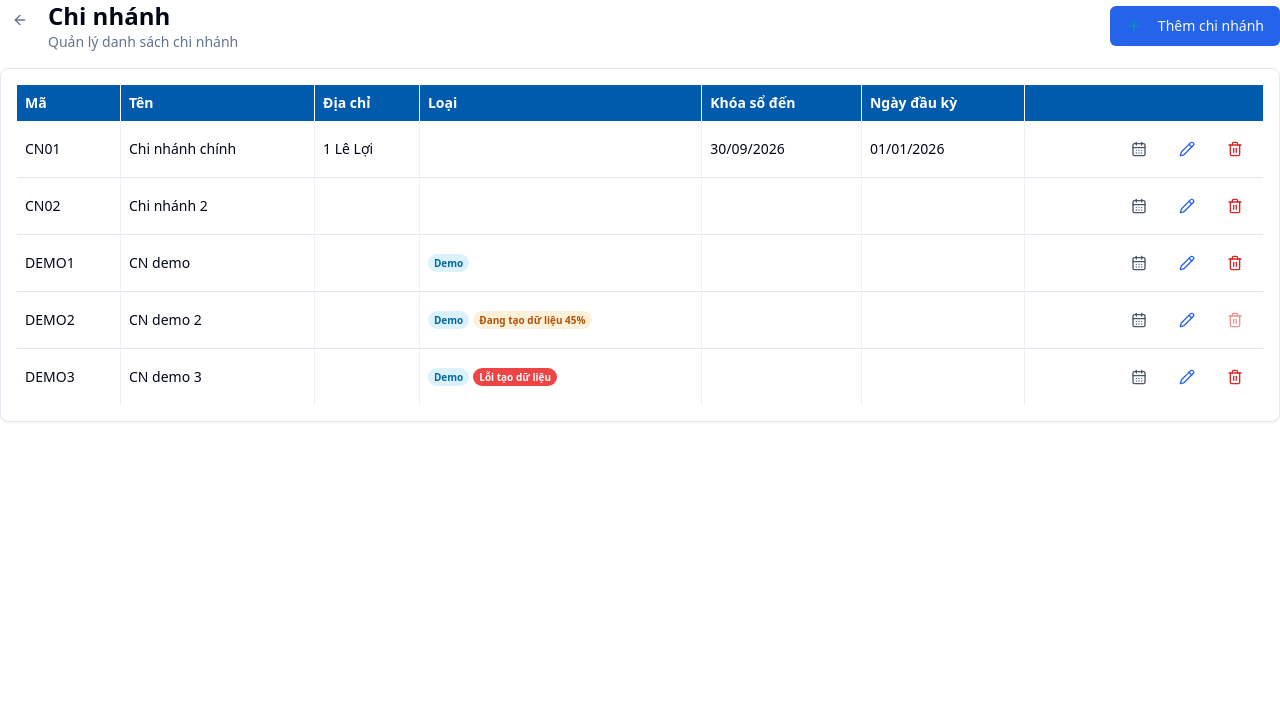
Test: BranchesPage › normal rows keep the normal delete
Click the button named "Xóa chi nhánh" in the row of "CN01".
click(1235, 149)  # box [1215,129,1255,169]
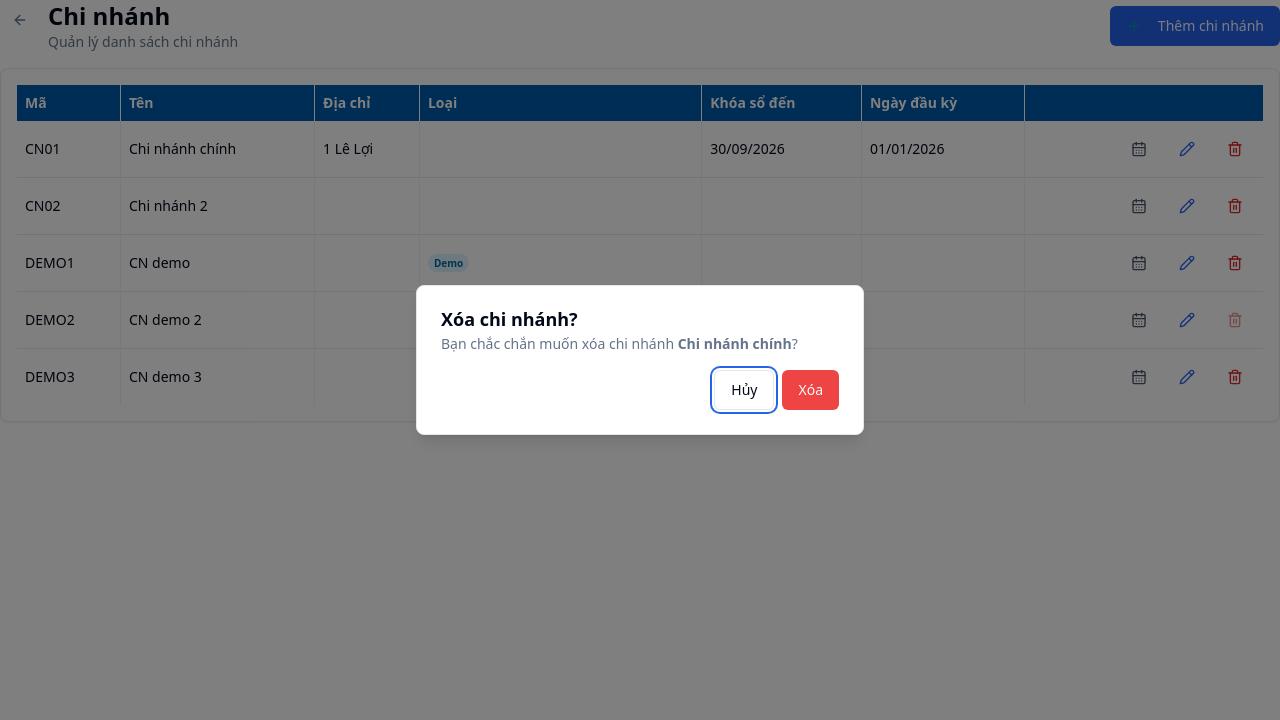
Expected: the dialog "Xóa chi nhánh?" is shown, [416,285,864,435]
